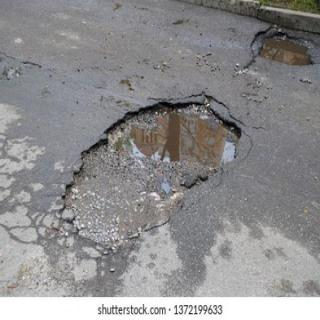pothole: (63, 95, 243, 245)
